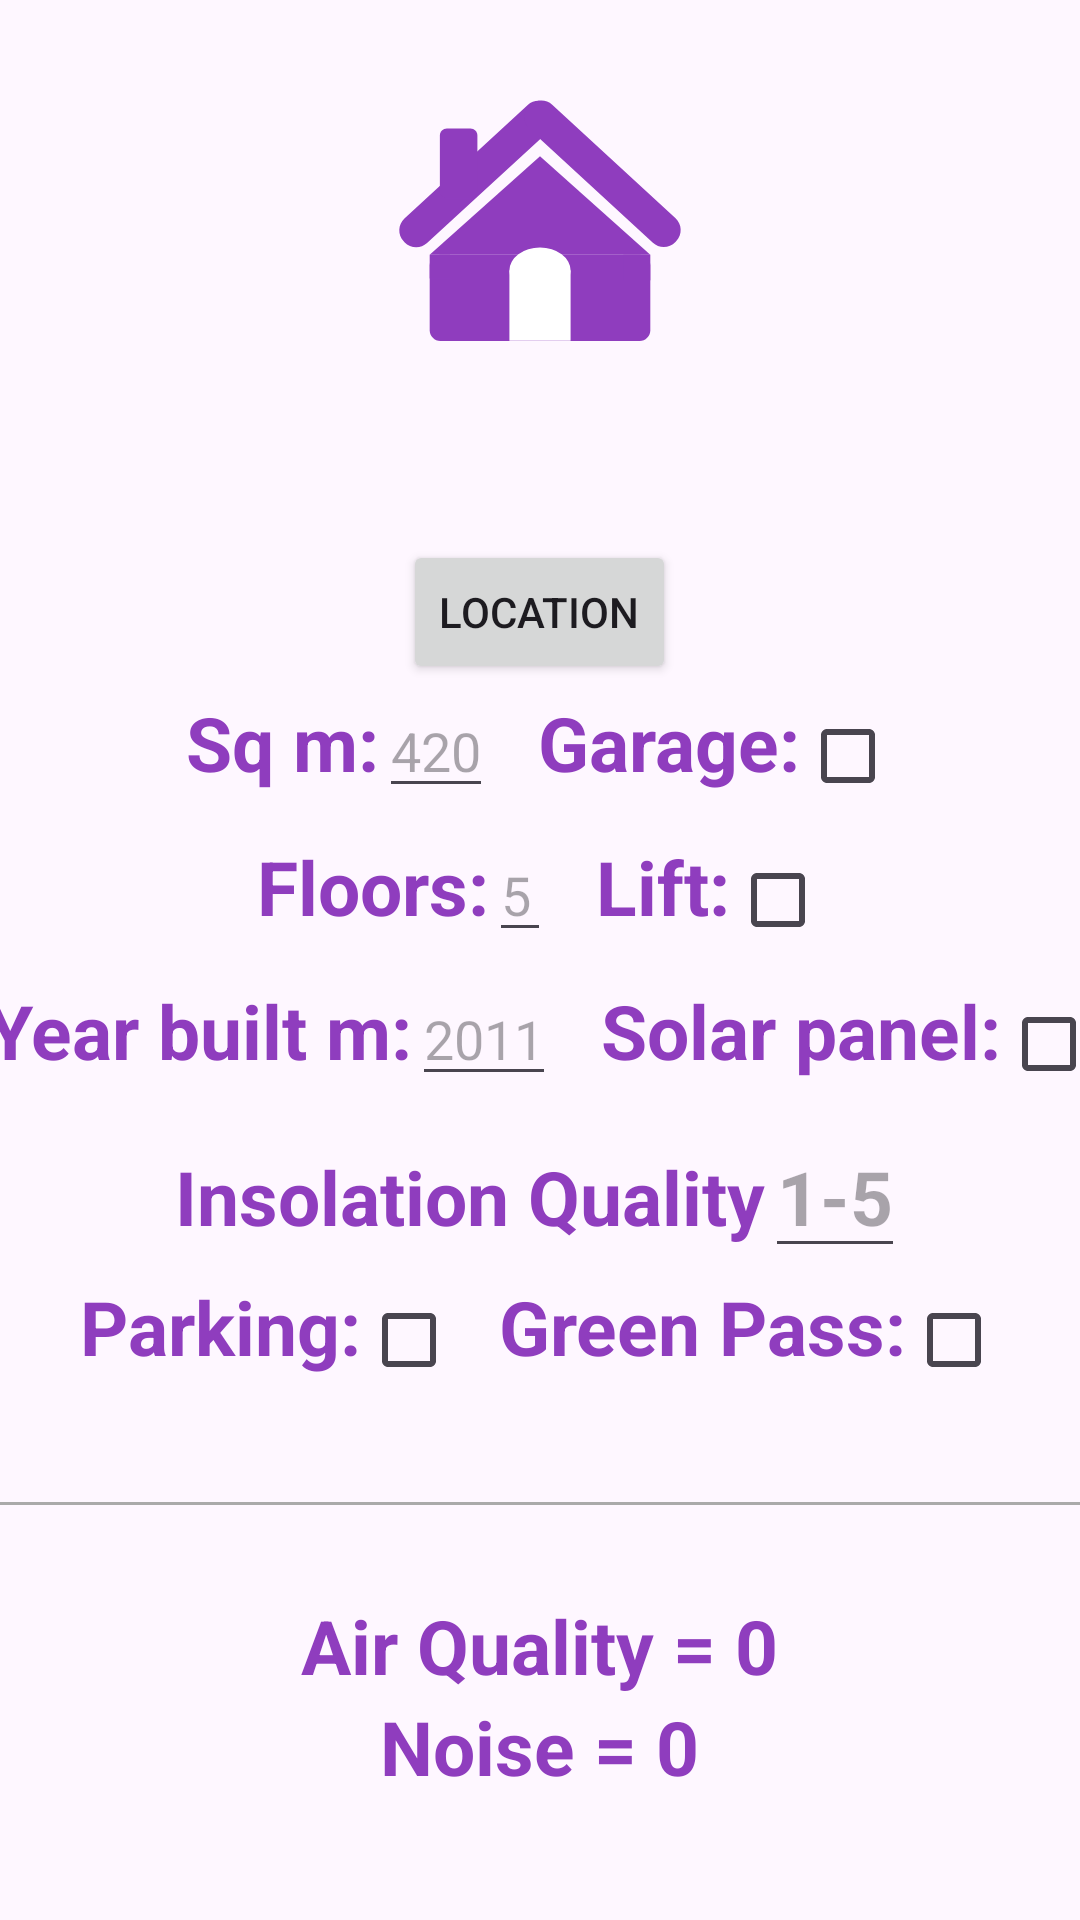

Named icons in this screenshot (1080*1920) and their bounding boxes, (x1, y1, x2, y2):
house: (399, 100, 681, 341)
